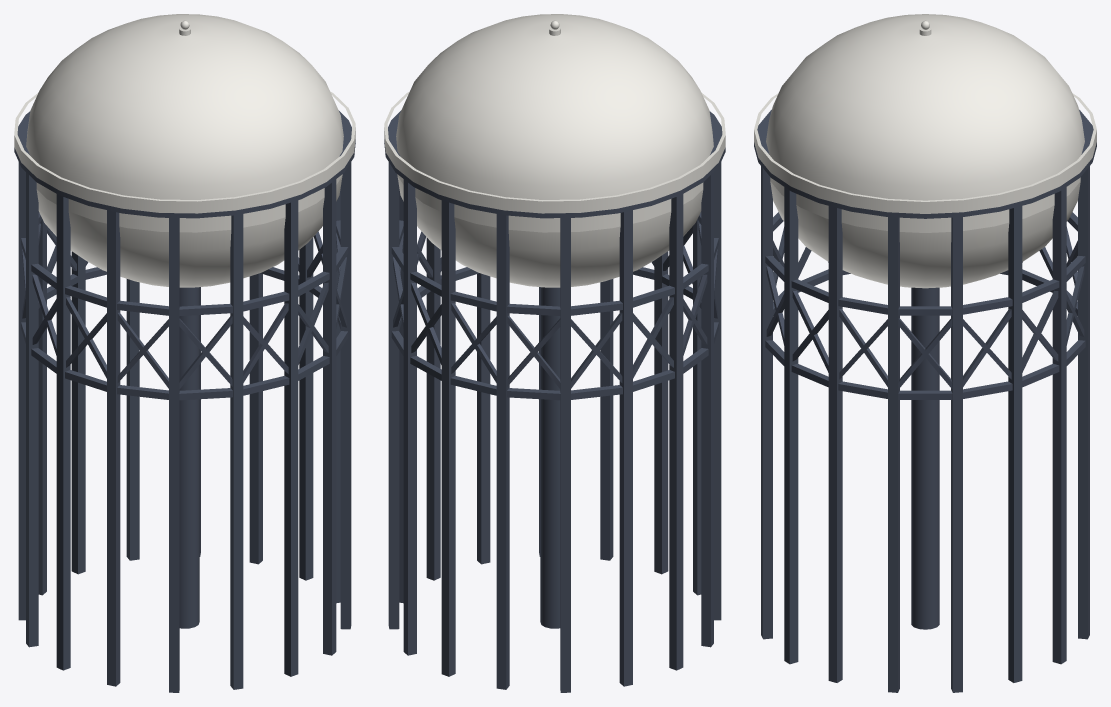
3 renders of one model, left to right at view 1: azimuth 30°, elevation 25°; view 2: azimuth 150°, elevation 25°; view 3: azimuth 270°, elevation 25°, orthographic.
Parts seen in each view (by area): view 1: elizabeth-water-tower; view 2: elizabeth-water-tower; view 3: elizabeth-water-tower.
Boxes of the visible parts, x1,y1,x2,y2 form: elizabeth-water-tower: [14, 14, 355, 692]; elizabeth-water-tower: [384, 14, 725, 692]; elizabeth-water-tower: [754, 14, 1096, 692].
Size of the model in its own units: 25.8 by 50 by 25.8.
